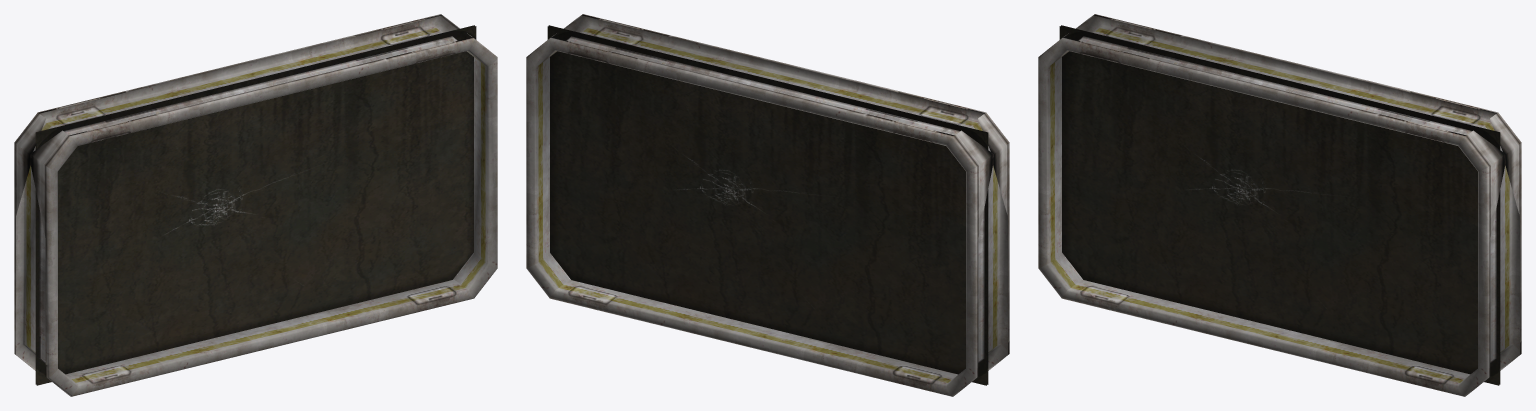
The model's file is lambda_window_large_crack_02.dae.
3 views of the same model, side by side, from view 1: azimuth 30°, elevation 25°; view 2: azimuth 150°, elevation 25°; view 3: azimuth 330°, elevation 25° (orthographic).
Parts seen in each view (by area): view 1: glass, theta_ground_window_frame; view 2: glass, theta_ground_window_frame; view 3: glass, theta_ground_window_frame.
Boxes of the visible parts, x1,y1,x2,y2 form: glass: [35, 25, 476, 385]; theta_ground_window_frame: [14, 14, 497, 396]; glass: [547, 25, 988, 385]; theta_ground_window_frame: [526, 14, 1009, 396]; glass: [1059, 25, 1500, 385]; theta_ground_window_frame: [1038, 14, 1521, 396].
Bounding box in the file's own units: 4.27 × 2.36 × 0.576.
